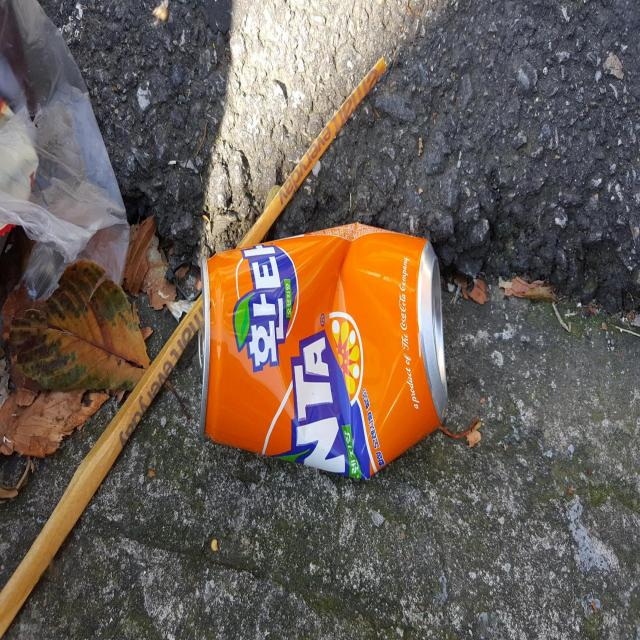can: (199, 223, 448, 479)
